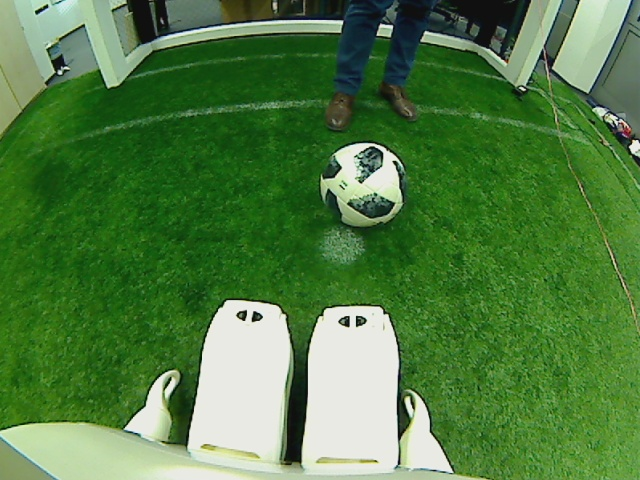ball: (320, 138, 406, 230)
